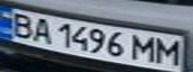1: (51, 20, 75, 48)
4: (69, 24, 90, 52)
6: (106, 29, 130, 58)
9: (84, 26, 109, 55)
A: (27, 16, 57, 44)
B: (3, 10, 39, 38)
M: (127, 33, 160, 63), (154, 36, 184, 66)
